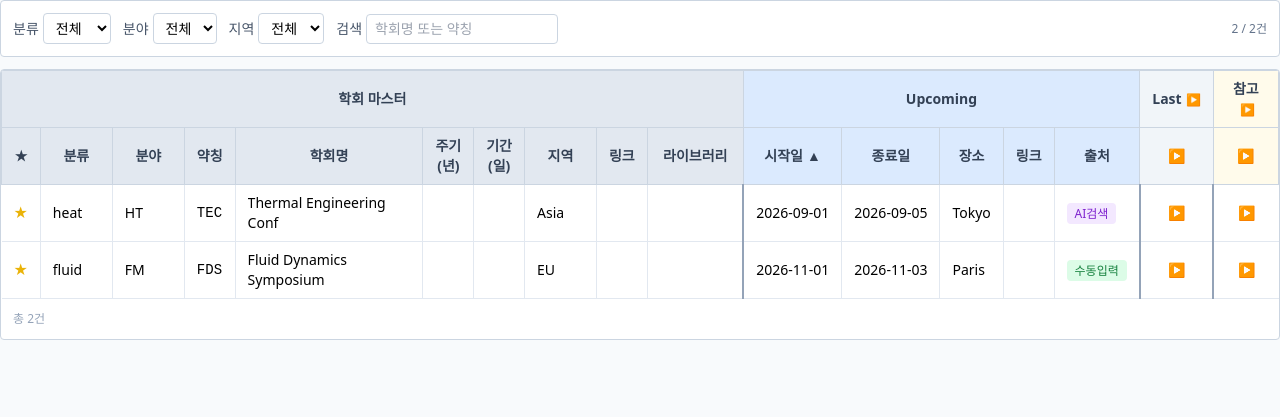
Scenario: 레이아웃 (QA #6, #7) › Last 그룹 클릭 → 펼침 (▼) → 시작일/종료일/장소/링크 헤더 노출
The width and height of the screenshot is (1280, 417).
Click the column heading "Last▶" at (1176, 99), box [1140,70,1213,128]
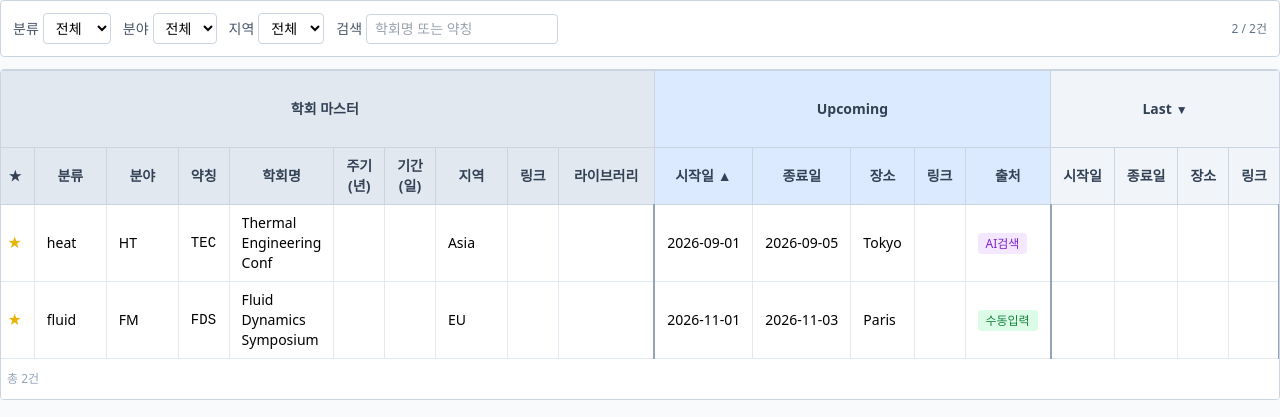
Check: the number of column headings "시작일" is 2, box [654,148,753,204]; [1051,148,1114,204]
